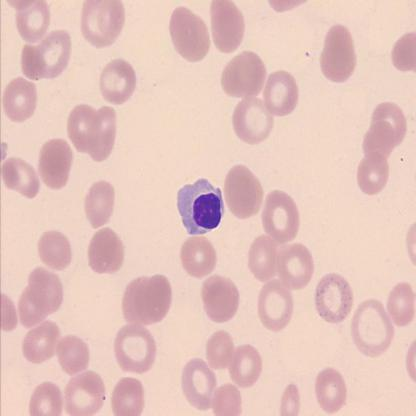NRC: (177, 176, 226, 237)
